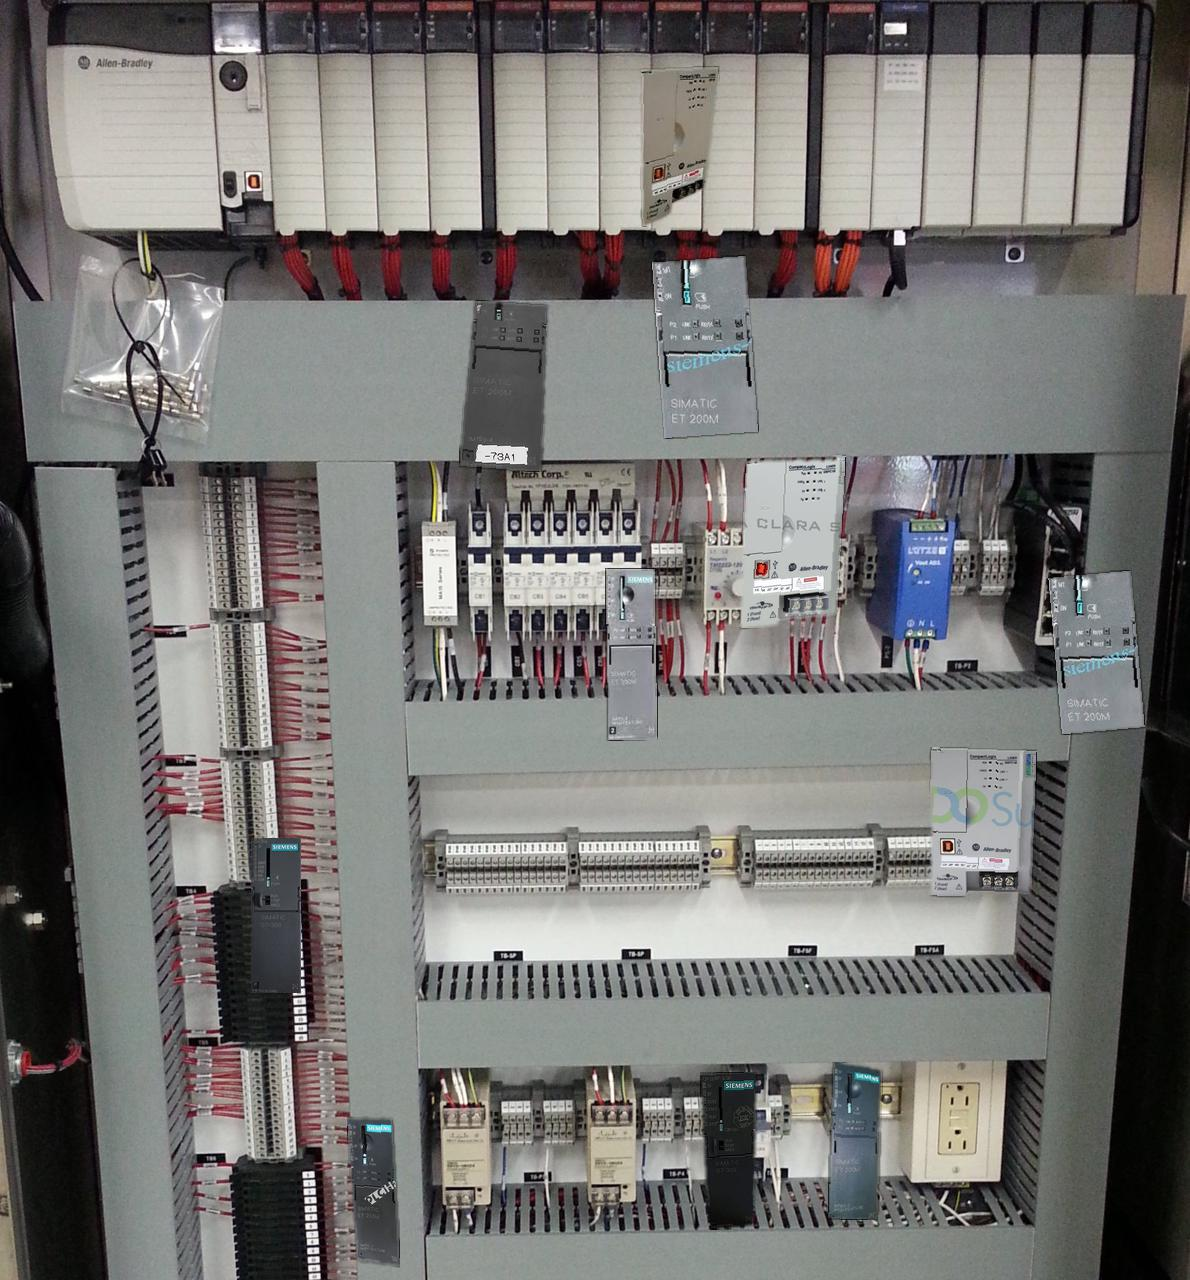AllenBradley: (740, 456, 846, 627), (931, 748, 1036, 895), (641, 67, 717, 225)
Siemens: (700, 1072, 756, 1229), (251, 838, 300, 992)
